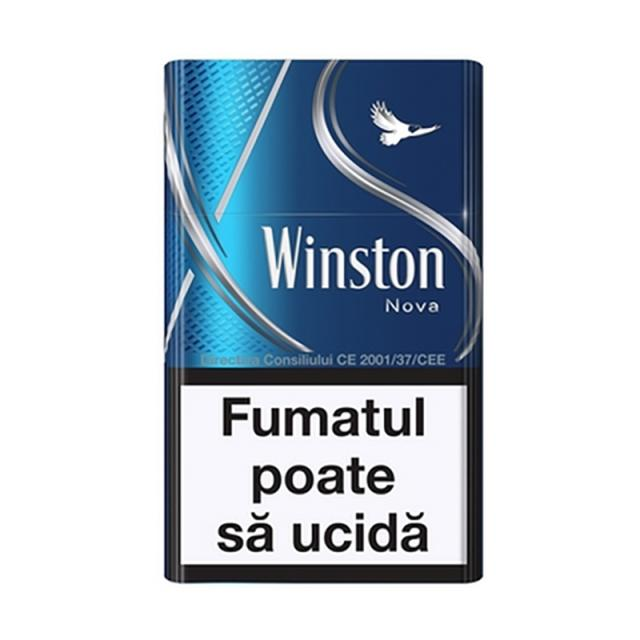winston: (160, 52, 482, 582)
